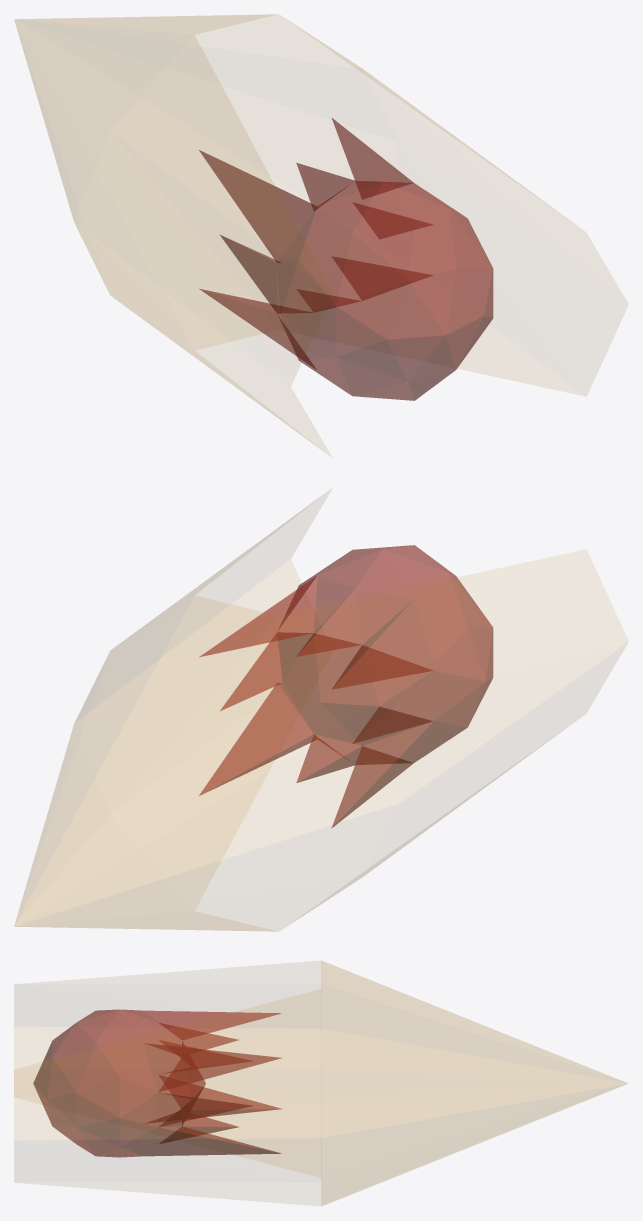
The model's file is jad_mage_rear.glb.
3 renders of one model, top to bottom at view 1: azimuth 30°, elevation 25°; view 2: azimuth 150°, elevation 25°; view 3: azimuth 270°, elevation 25°, orthographic. The views are drawn at different scales.
Size of the model in its own units: 56 by 49.99 by 128.
Materials: 1 (1 with a texture image).
